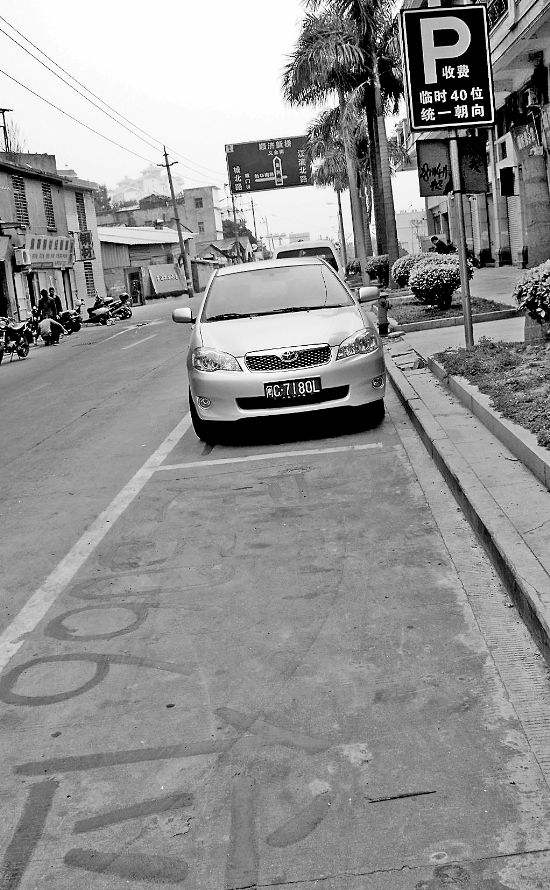slot_nocar: (1, 426, 530, 890)
